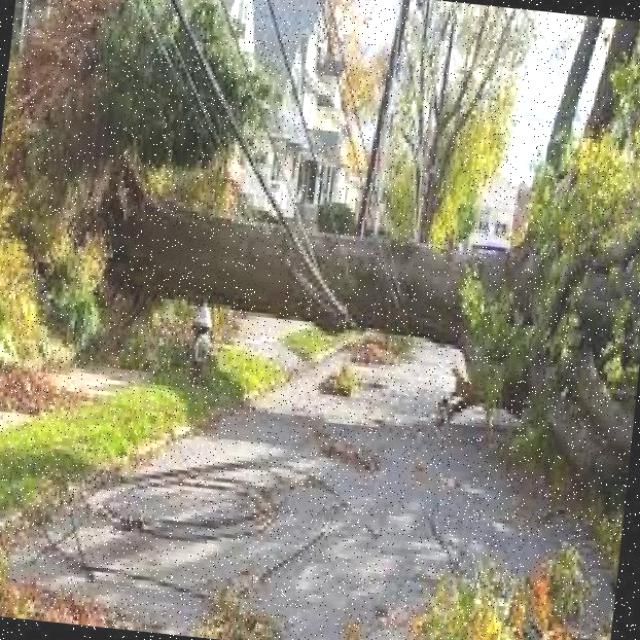fallen_object: (36, 87, 640, 496)
